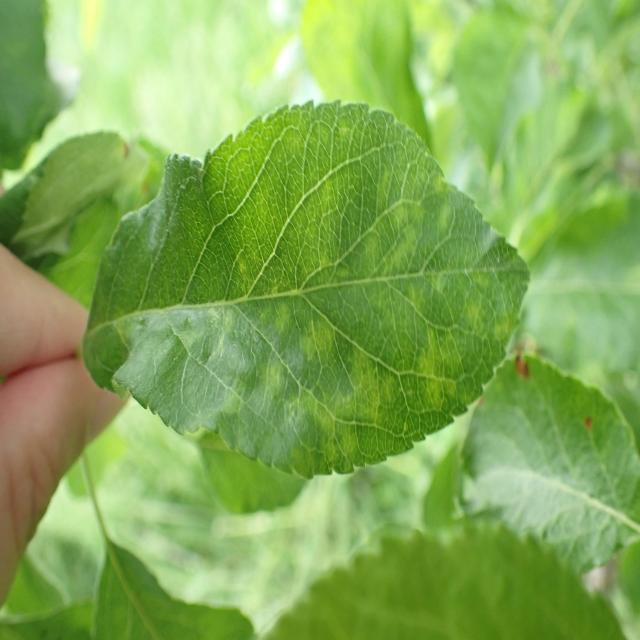scab: (108, 154, 504, 439)
